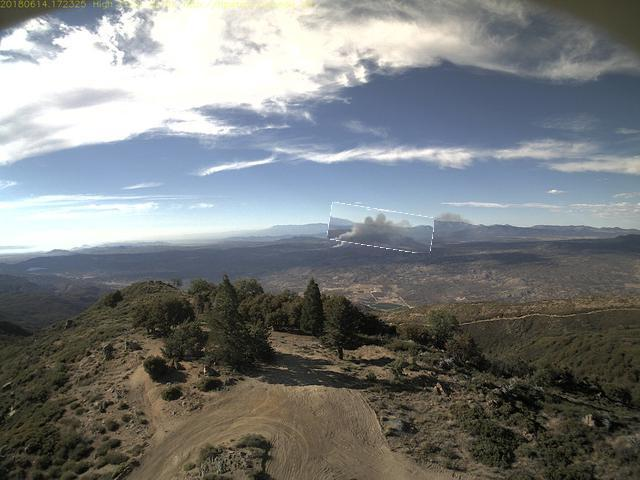smoke: (329, 207, 435, 252)
